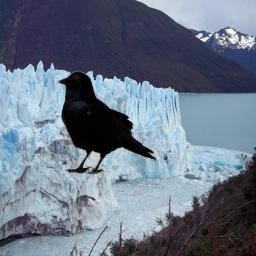Crow: (55, 70, 160, 175)
